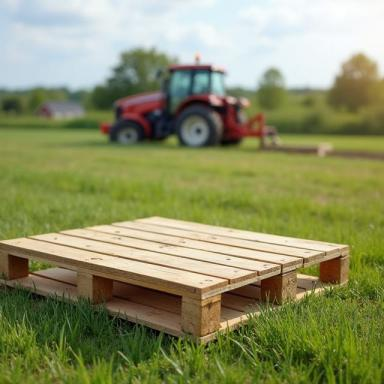pallet: (0, 215, 350, 346), (113, 280, 182, 315), (221, 280, 261, 312)
